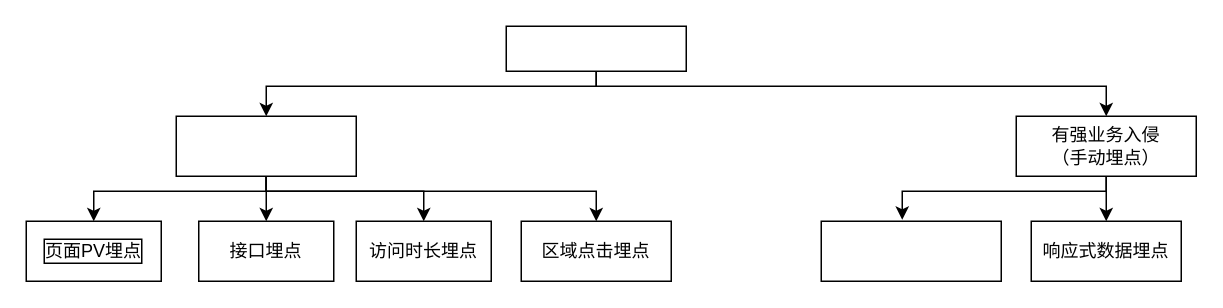
Some shapes in this 1223 by 308 pixel diagram are drawn without their labels. Here are the shapes that lost their labels. From the top down, the centre of each, then its label:
point (595, 48): 埋点场景
point (265, 145): 无强业务入侵 （自动化埋点）
point (910, 250): 曝光度 （懒加载场景）
